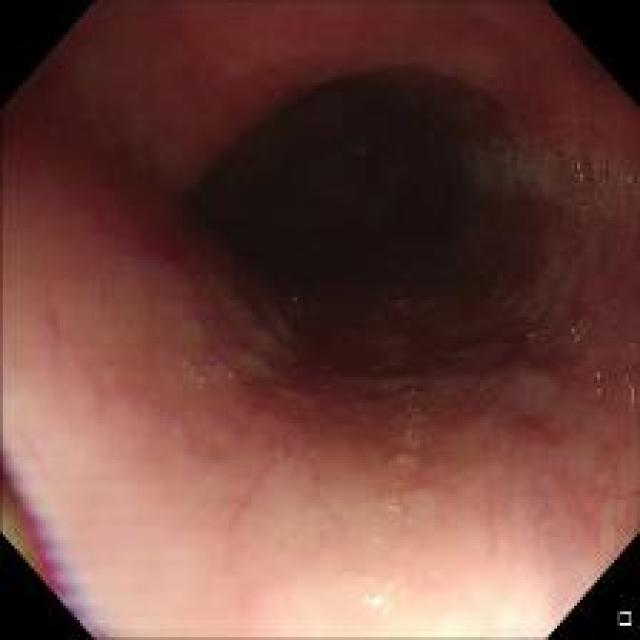bubbles: (375, 366, 430, 466), (476, 136, 564, 198), (560, 128, 625, 209), (196, 350, 281, 390), (518, 312, 594, 344), (349, 576, 401, 616), (381, 489, 406, 519), (584, 371, 610, 399), (624, 359, 638, 409), (270, 444, 289, 464), (368, 524, 385, 545)
color misalignment: (1, 428, 88, 630)
contrast: (160, 42, 526, 349)
saturation: (415, 608, 549, 636)
specularity: (370, 596, 382, 609)
